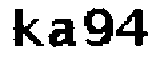4: (116, 7, 152, 51)
9: (81, 6, 114, 49)
a: (47, 16, 76, 49)
k: (9, 6, 44, 52)
